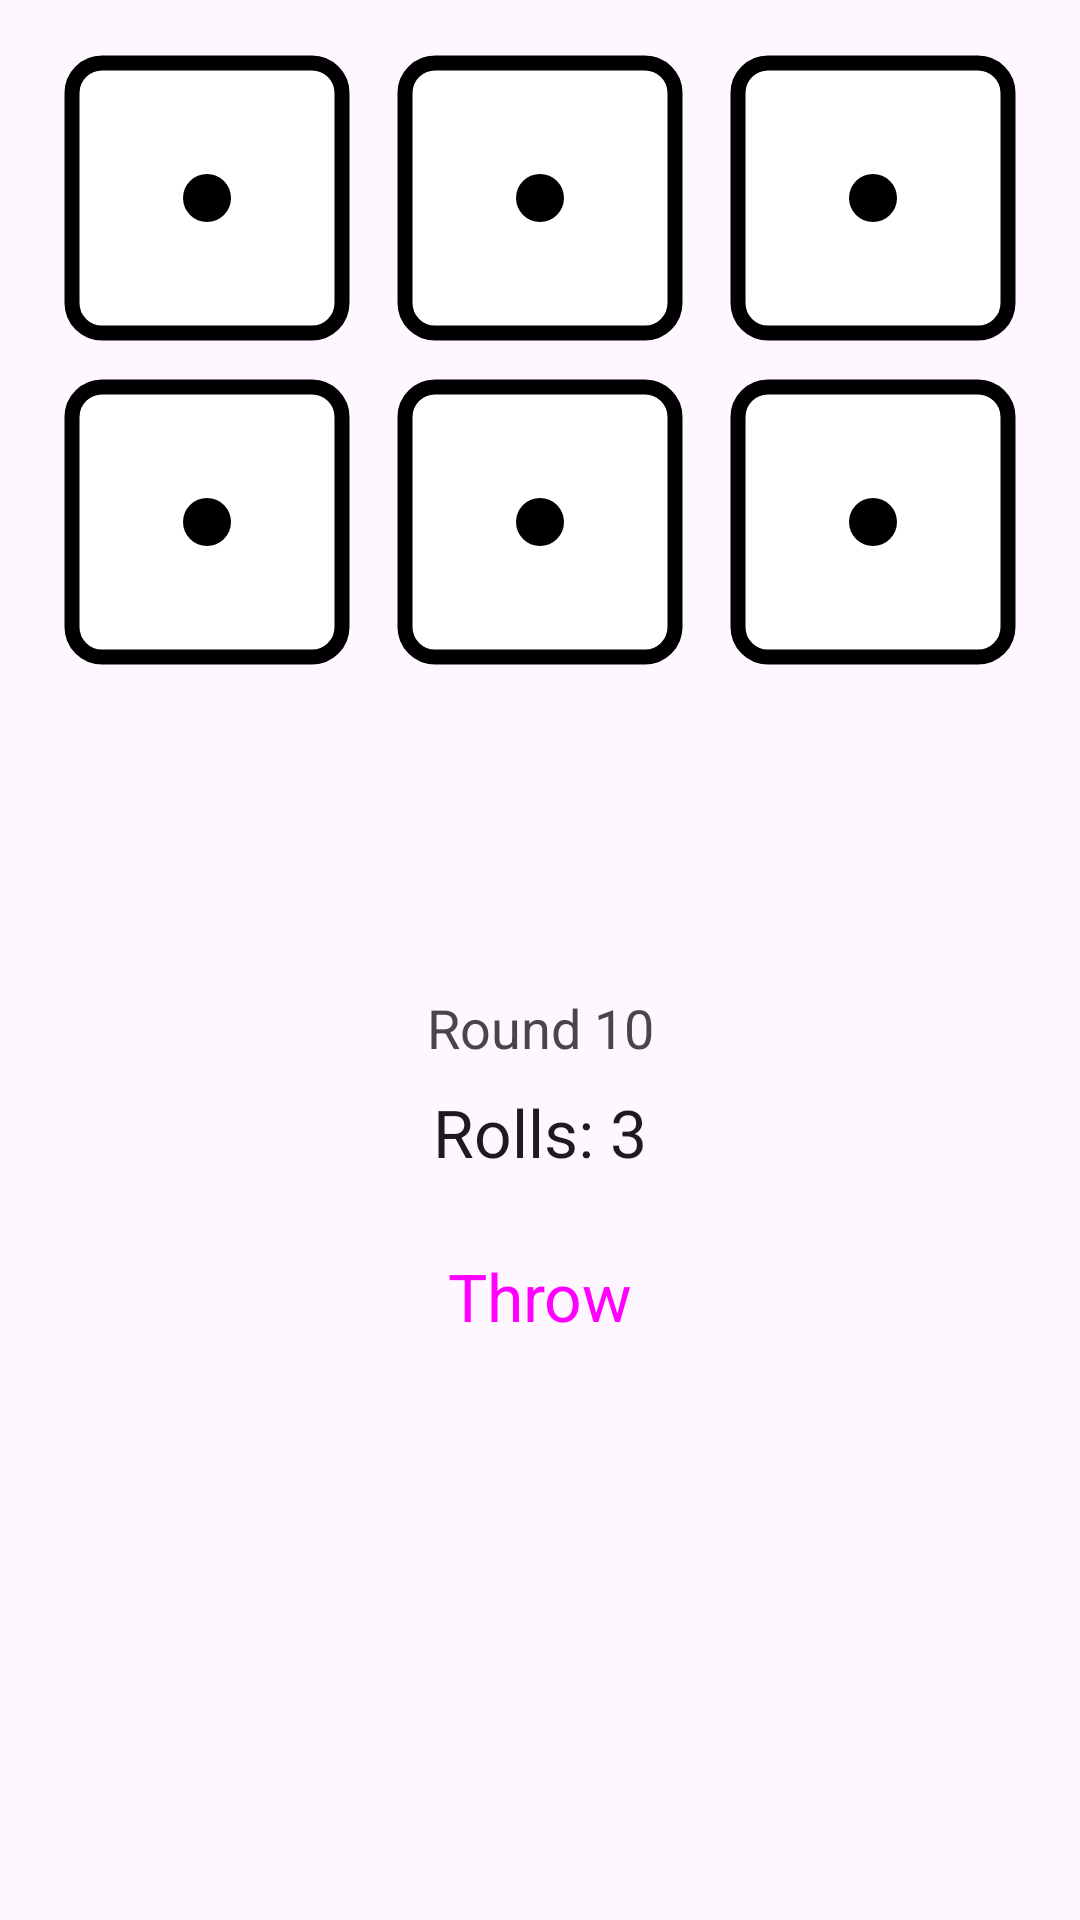

Named icons in this screenshot (1080x1920) and their centers, point (x, y):
die: point (207, 198), point (540, 198), point (873, 198), point (207, 522), point (540, 522), point (873, 522)
